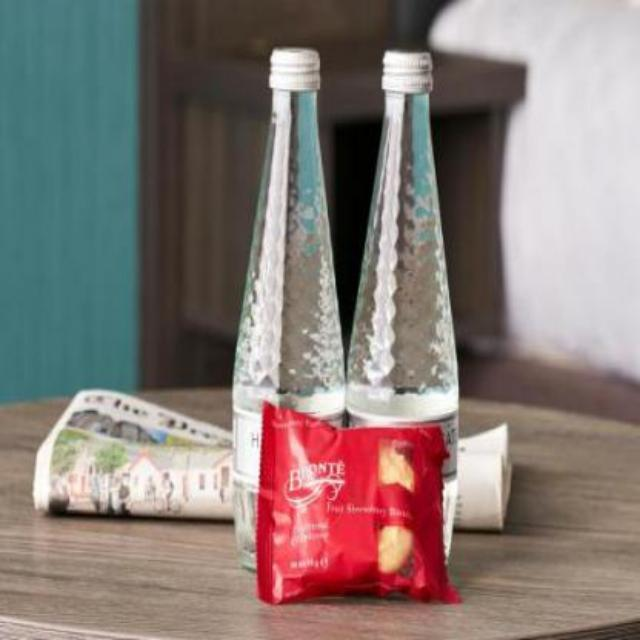plastic_bottle: (232, 36, 347, 566), (349, 42, 462, 570)
